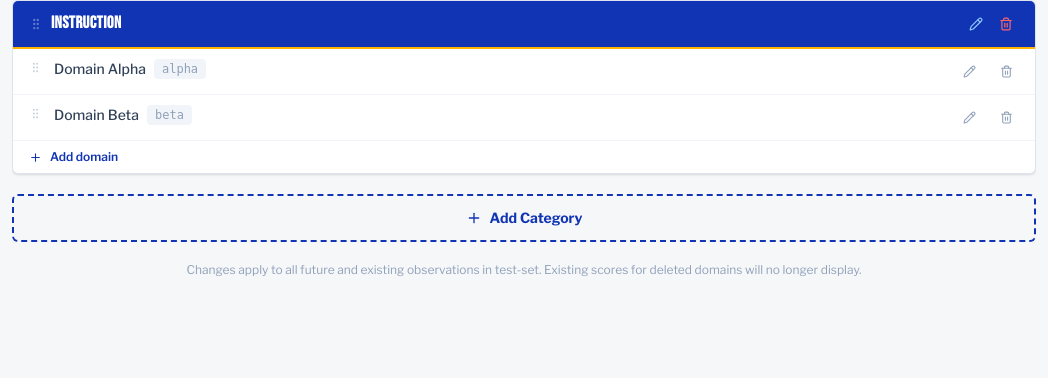
Test: RubricSettings — slug error does not bleed between domain edit forms › opening domain B's edit form clears any 409 error left over from domain A
Expected: the text "Domain Alpha" is shown, [54, 59, 146, 79]
Step 1. Click the 3rd button → [970, 72], box [957, 59, 982, 84]
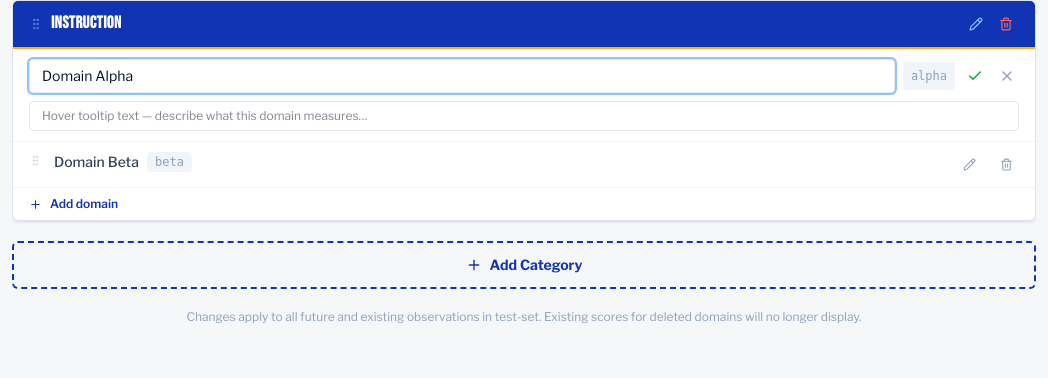
Now the 3rd button is shown
Step 2. Click the 3rd button → [975, 76], box [963, 64, 987, 88]
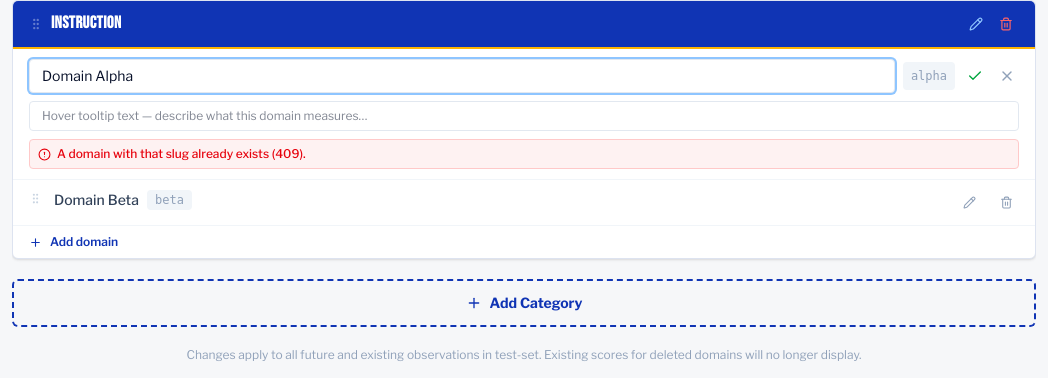
Now the text "A domain with that slug already exists (409)." is shown, box [29, 139, 1019, 169]
Step 3. Click the 5th button → [970, 202], box [957, 190, 982, 215]
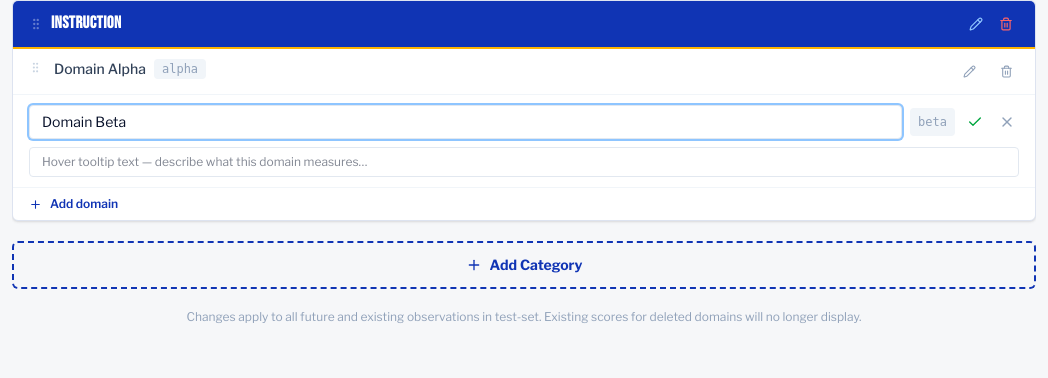
Now the text "already exists" is not shown
